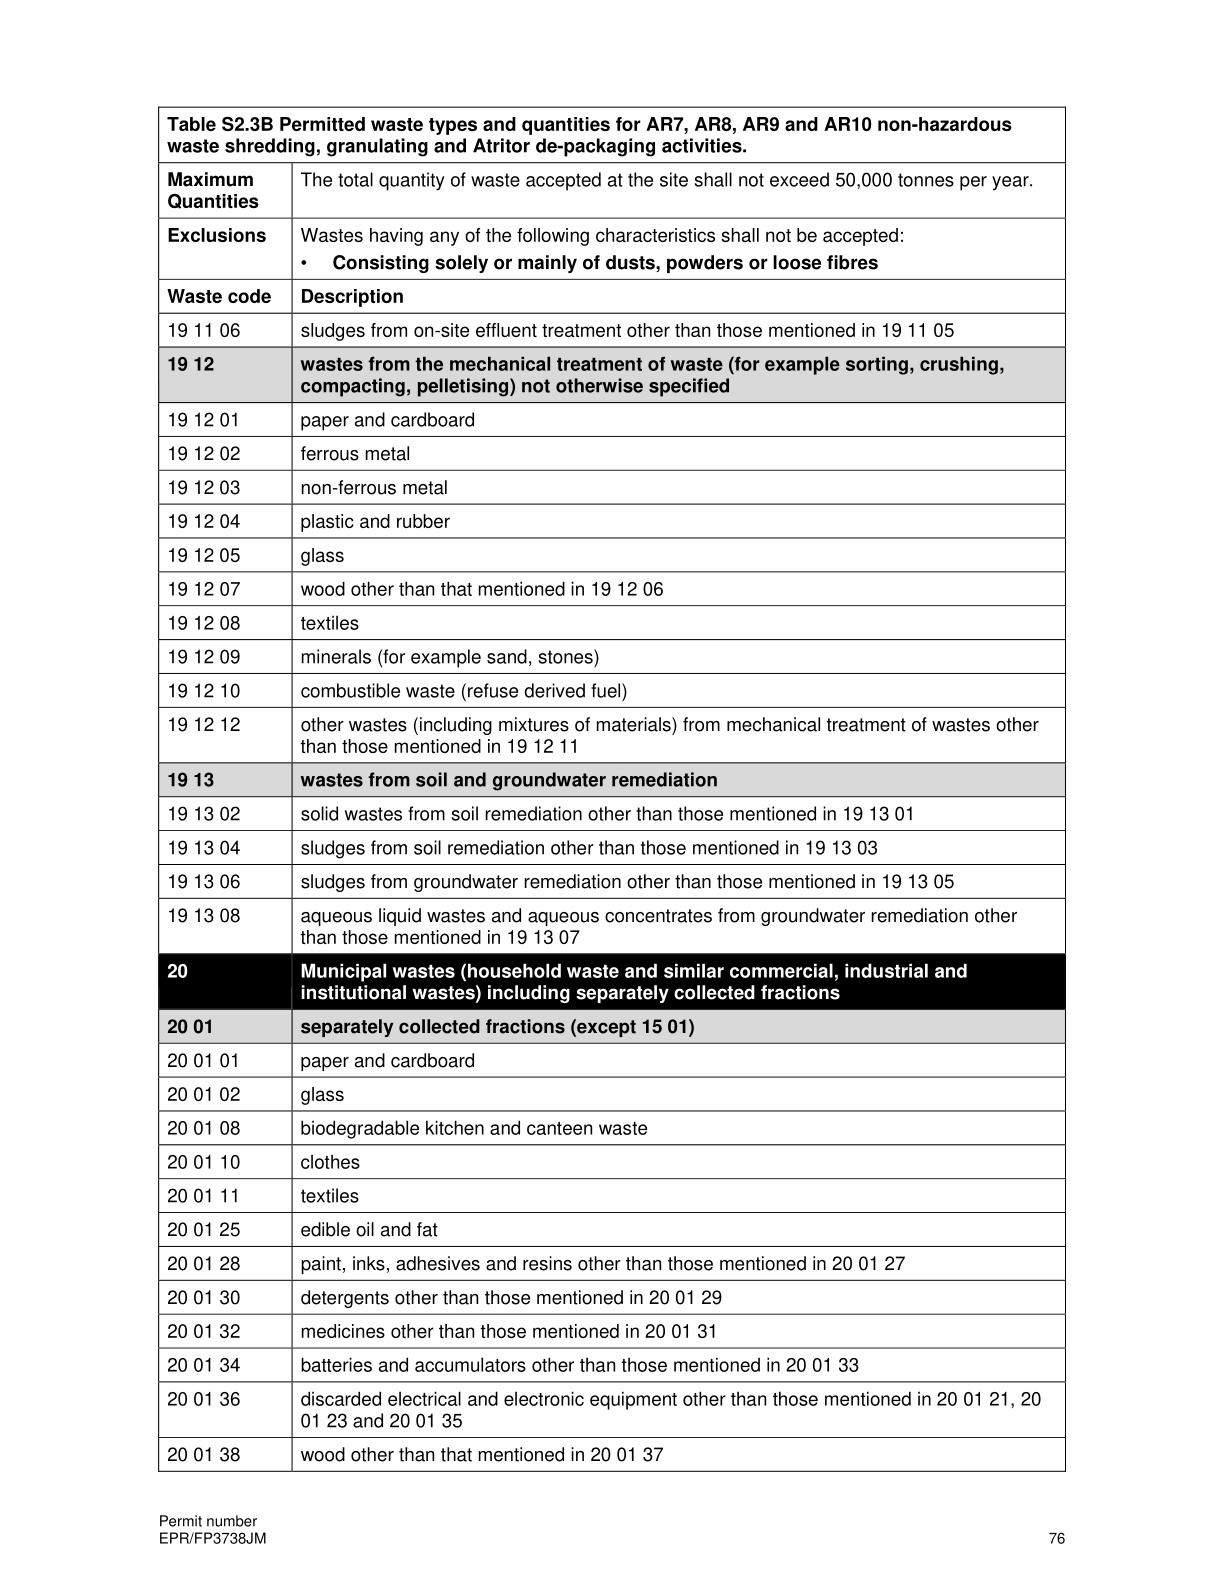merged_cells: (158, 105, 1066, 1473)
